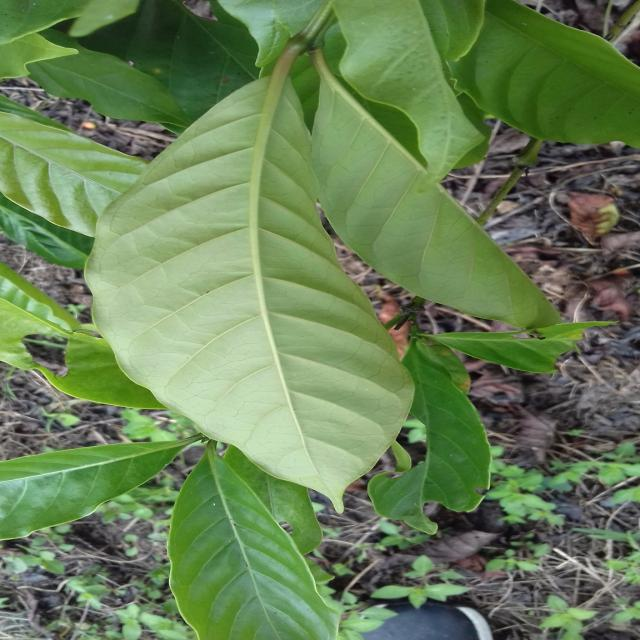Sanas: (84, 48, 421, 509)
